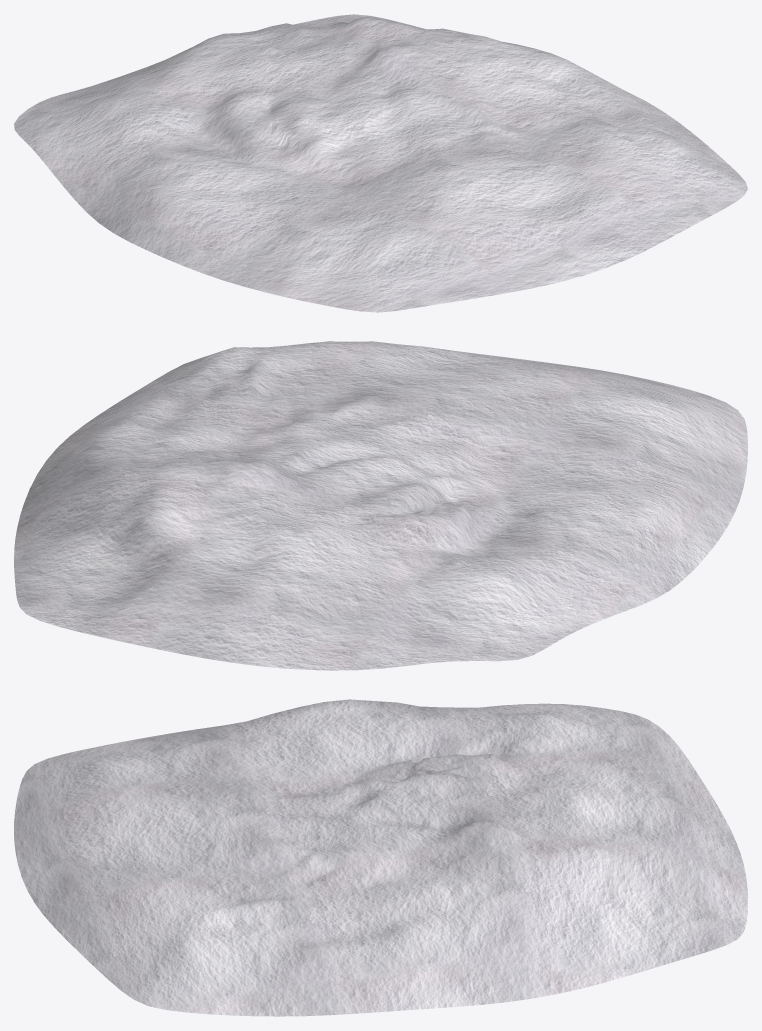
Rendered from SnowPlaneURP.fbx.
3 views of the same model, one above another, from view 1: azimuth 30°, elevation 25°; view 2: azimuth 150°, elevation 25°; view 3: azimuth 270°, elevation 25° (orthographic). The views are drawn at different scales.
Parts seen in each view (by area): view 1: SnowPlaneURP; view 2: SnowPlaneURP; view 3: SnowPlaneURP.
Part boxes in pixels (left/top/right/bottom): SnowPlaneURP: left=14, top=14, right=747, bottom=312; SnowPlaneURP: left=14, top=341, right=747, bottom=670; SnowPlaneURP: left=14, top=699, right=747, bottom=1016.
Size of the model in its own units: 6851 by 872 by 7365.
1 material, 1 textured.
